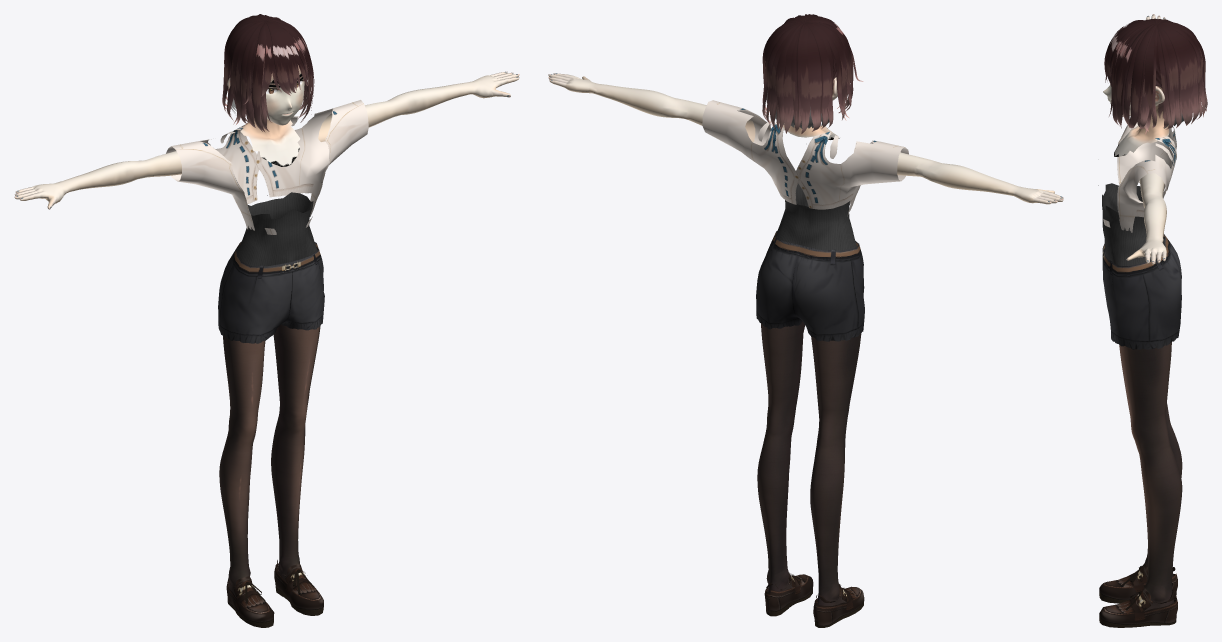
File: Adult Female.obj
The picture shows the model from 3 angles, left to right: view 1: azimuth 30°, elevation 25°; view 2: azimuth 150°, elevation 25°; view 3: azimuth 270°, elevation 25°; orthographic projection. The views are drawn at different scales.
Parts seen in each view (by area): view 1: Body_Hair001_(merged).baked; view 2: Body_Hair001_(merged).baked; view 3: Body_Hair001_(merged).baked.
Part boxes in pixels (x1,y1,x2,y2): Body_Hair001_(merged).baked: (14, 14, 519, 627); Body_Hair001_(merged).baked: (548, 14, 1063, 627); Body_Hair001_(merged).baked: (1098, 14, 1207, 627).
Bounding box in the file's own units: 1.42 × 1.56 × 0.2774.
